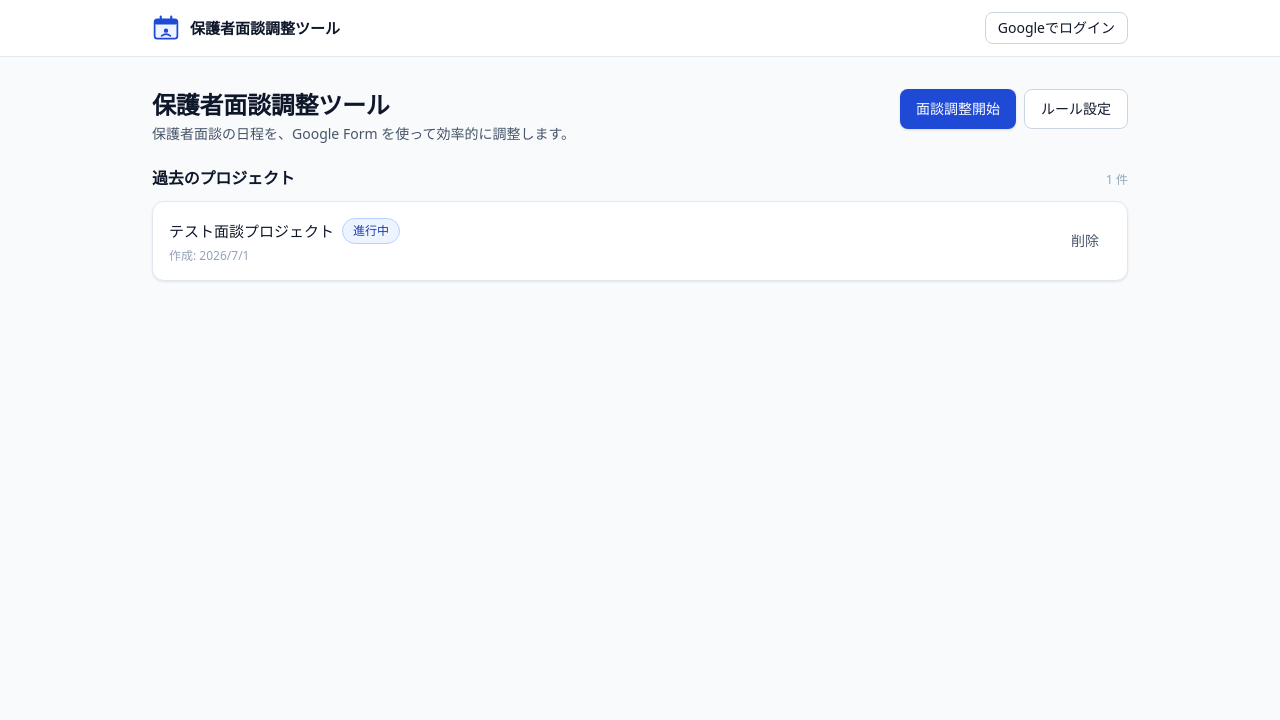
Scenario: HomePage › 削除 API がエラーを返したらダイアログ内にエラーが表示される
Click the button "削除" at (1085, 241), box left=1059, top=225, right=1111, bottom=257
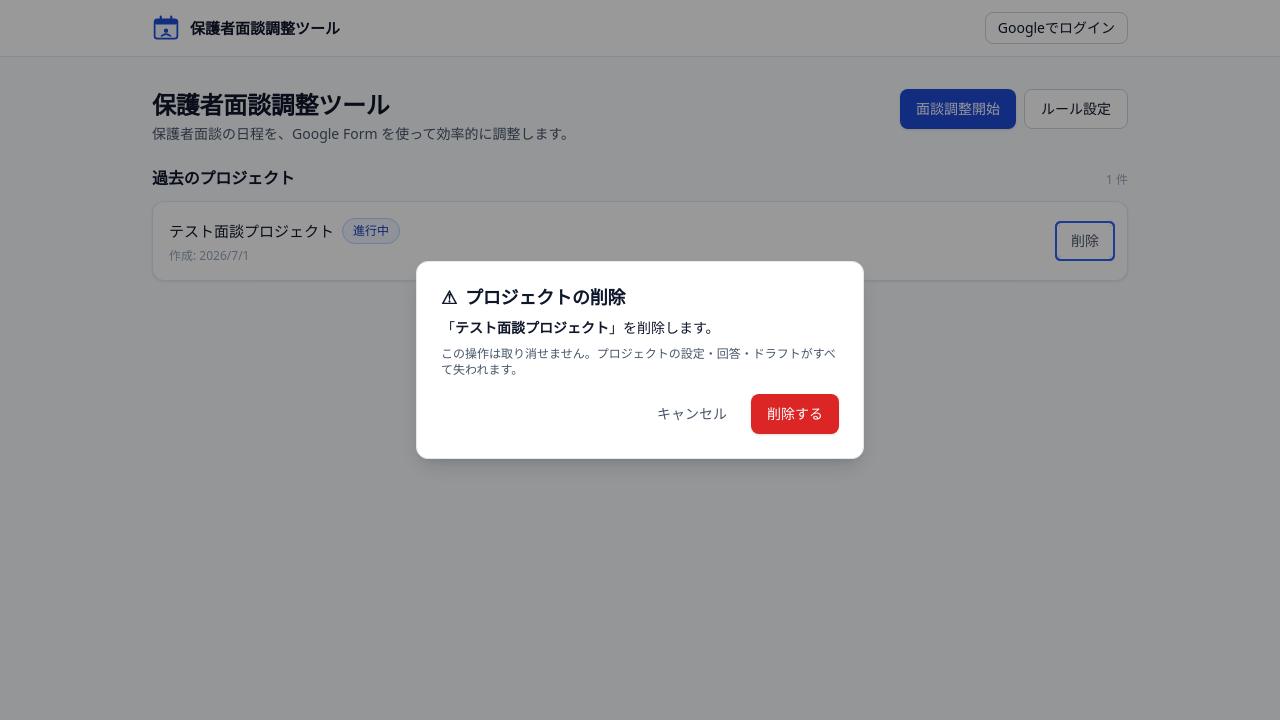
Click the button with test id "delete-confirm-button" at (795, 414), box left=751, top=394, right=839, bottom=434
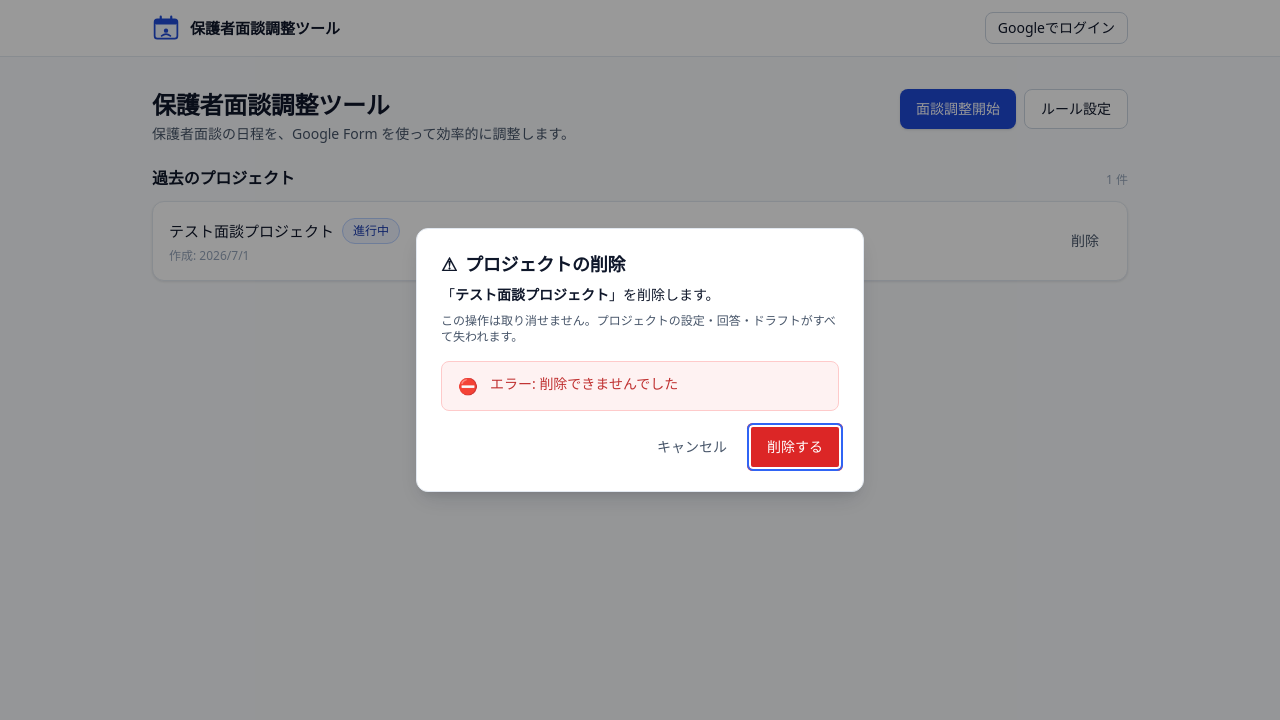
Check: the dialog with test id "delete-confirm-dialog" shows "削除できませんでした", box left=539, top=374, right=678, bottom=393
